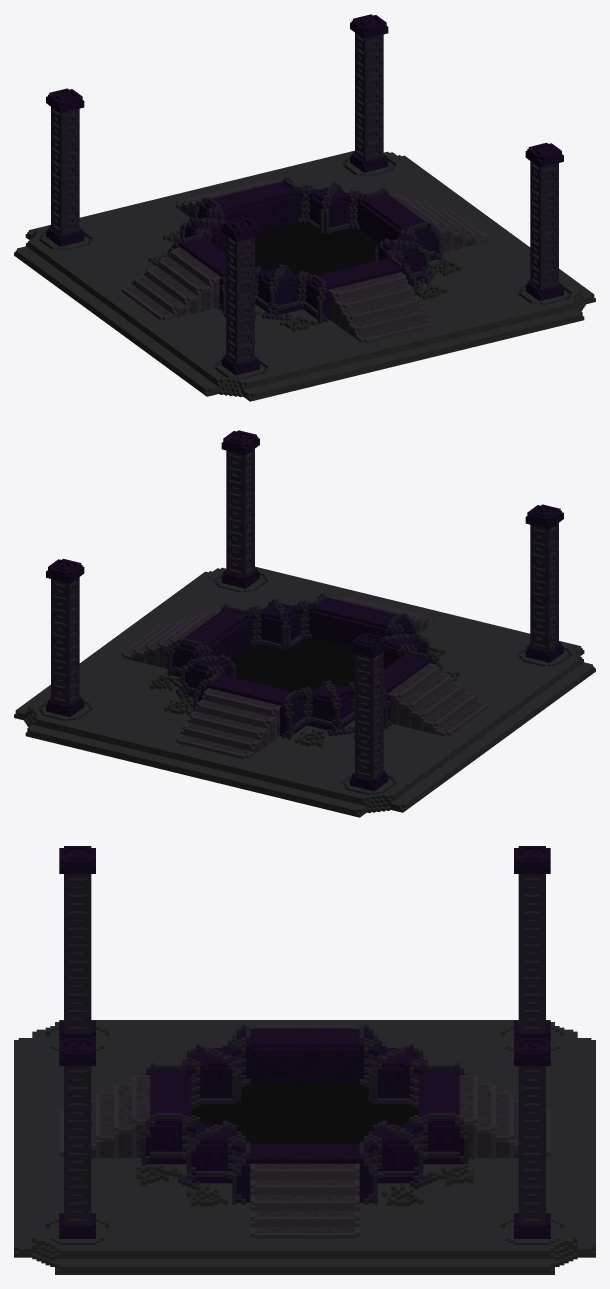
The model's file is The Breach.obj.
The picture shows the model from 3 angles, top to bottom: view 1: azimuth 30°, elevation 25°; view 2: azimuth 150°, elevation 25°; view 3: azimuth 270°, elevation 25°; orthographic projection. The views are drawn at different scales.
Bounding box in the file's own units: 12.8 × 4.9 × 12.8.
1 material, 1 textured.
